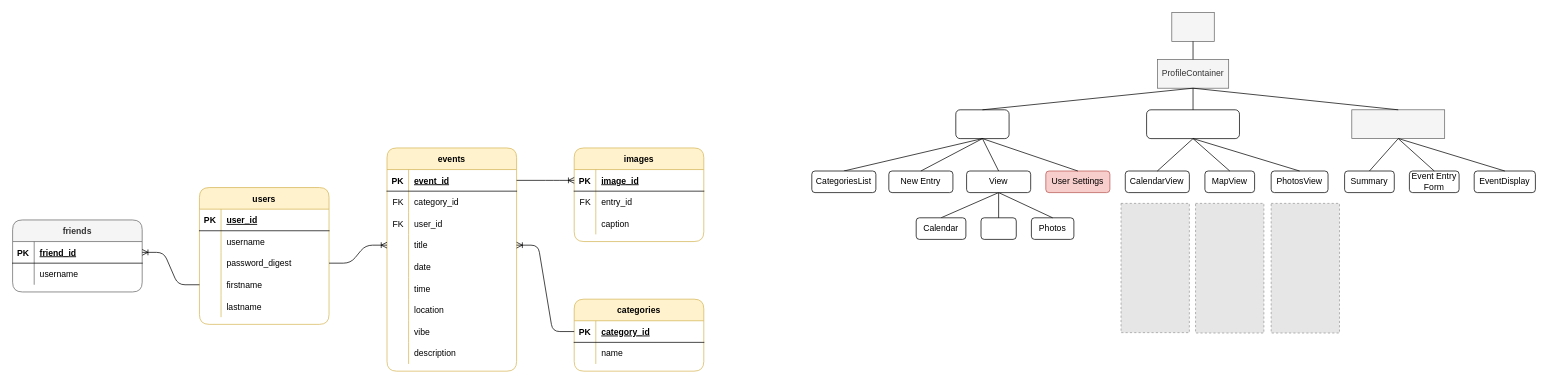
The diagram is 1548 pixels wide and 384 high, and some of its shapes have lost their labels. Grey dashed boxes stand in for pictures. The centre of each missing label's shape, as x and y in pixels:
App: the point at 1192,26
DisplayContainer (display): the point at 1398,124
EventViewList (eventview): the point at 1192,124
Map: the point at 998,228
NavBar (navigation): the point at 982,124
